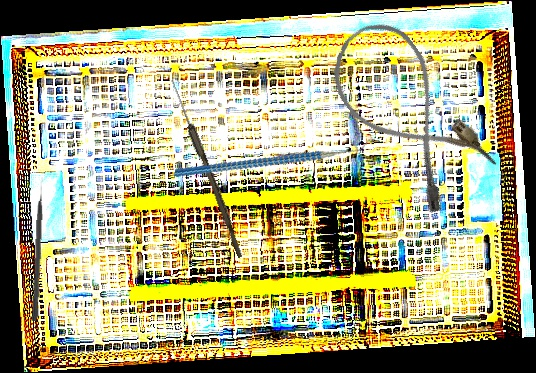Cannula: (314, 8, 502, 219)
Chopper: (173, 98, 373, 215)
Pusher: (31, 176, 47, 322)
Surgical Spoon: (167, 78, 247, 259)
